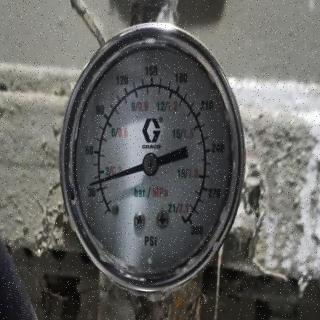gauge: (60, 0, 244, 316), (172, 207, 203, 236), (98, 197, 122, 223), (140, 152, 160, 176), (85, 179, 99, 189)
